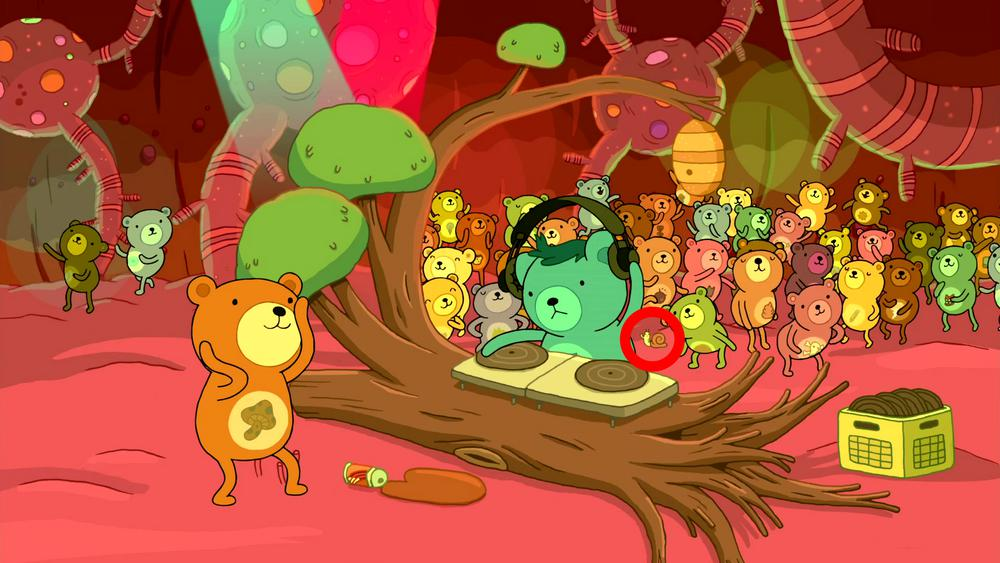snail: (638, 327, 669, 350)
